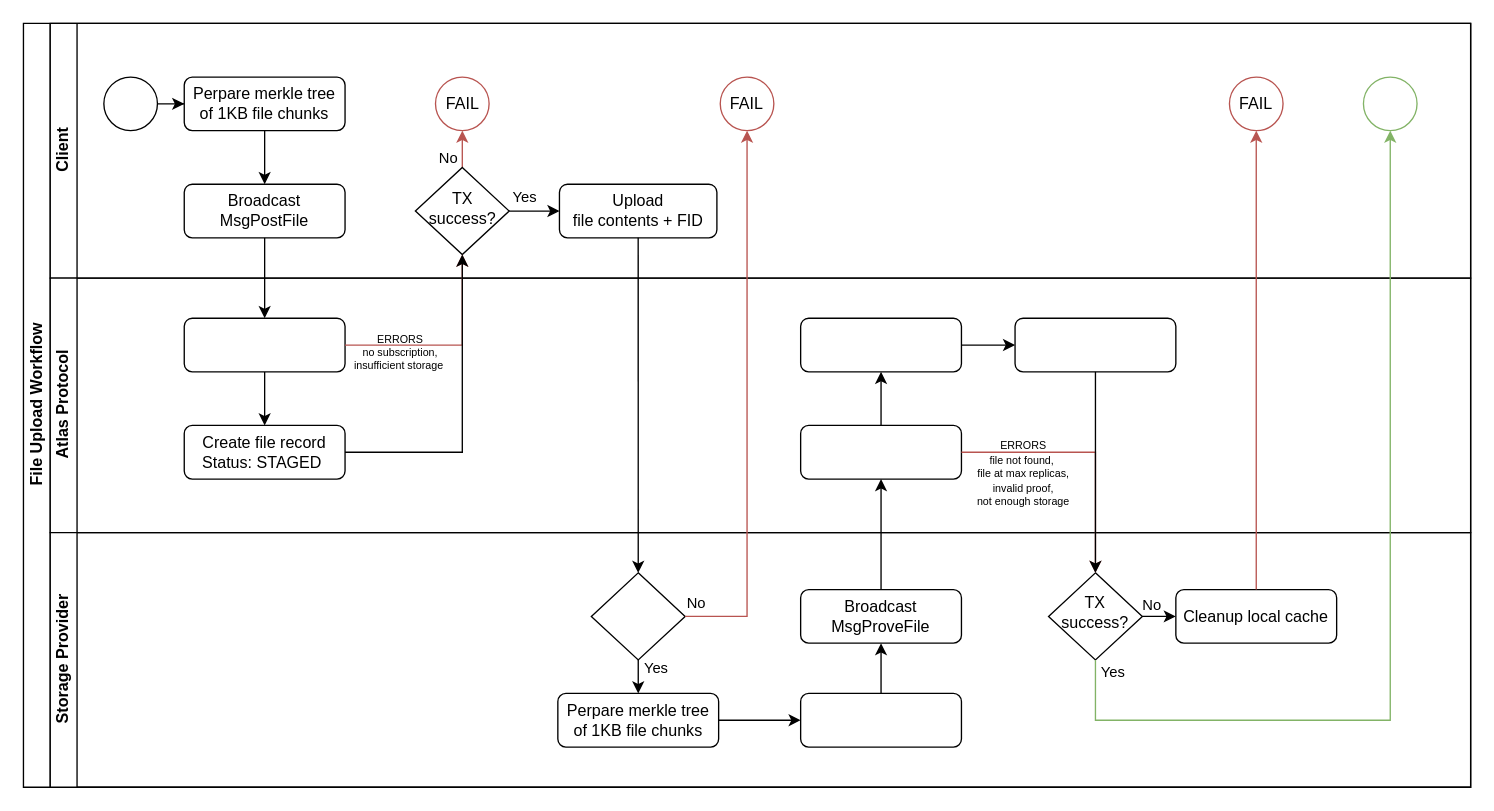
This 1494x811 diagram has some shape labels left out. The shapes that lost their labels are listed below. From the top down, each one's centre as x and y in pixels, then its label:
At (130,103): "START".
At (1389,103): "PASS".
At (264,344): "Update subscription storage usage".
At (880,344): "Add provider to file & set status to ACTIVE".
At (1095,344): "Increment file count index".
At (880,451): "Validate file proof and provider storage".
At (637,616): "storage available?".
At (880,719): "Generate proof for first file chunk".
